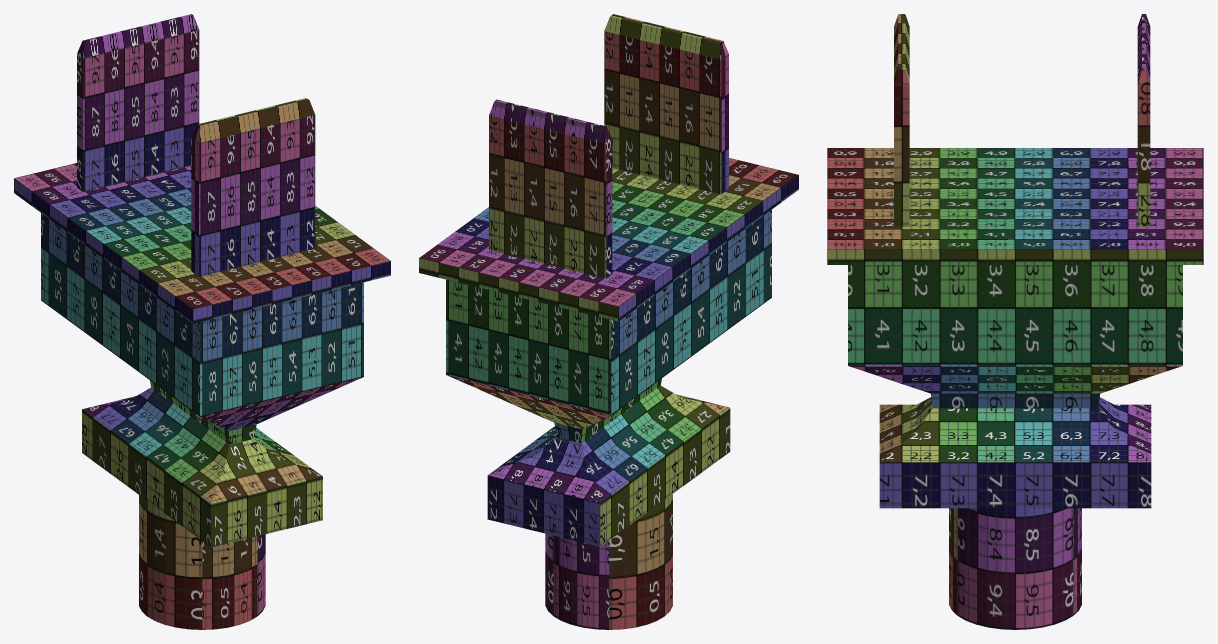
Rendered from powercord.FBX.
3 views of the same model, side by side, from view 1: azimuth 30°, elevation 25°; view 2: azimuth 150°, elevation 25°; view 3: azimuth 270°, elevation 25° (orthographic). The views are drawn at different scales.
Parts seen in each view (by area): view 1: PowerCord; view 2: PowerCord; view 3: PowerCord.
Part boxes in pixels (left/top/right/bottom): PowerCord: left=14, top=14, right=390, bottom=629; PowerCord: left=419, top=14, right=798, bottom=629; PowerCord: left=827, top=14, right=1203, bottom=629.
Bounding box in the file's own units: 2.26 × 5.8 × 3.54.
Materials: 1 (1 with a texture image).
